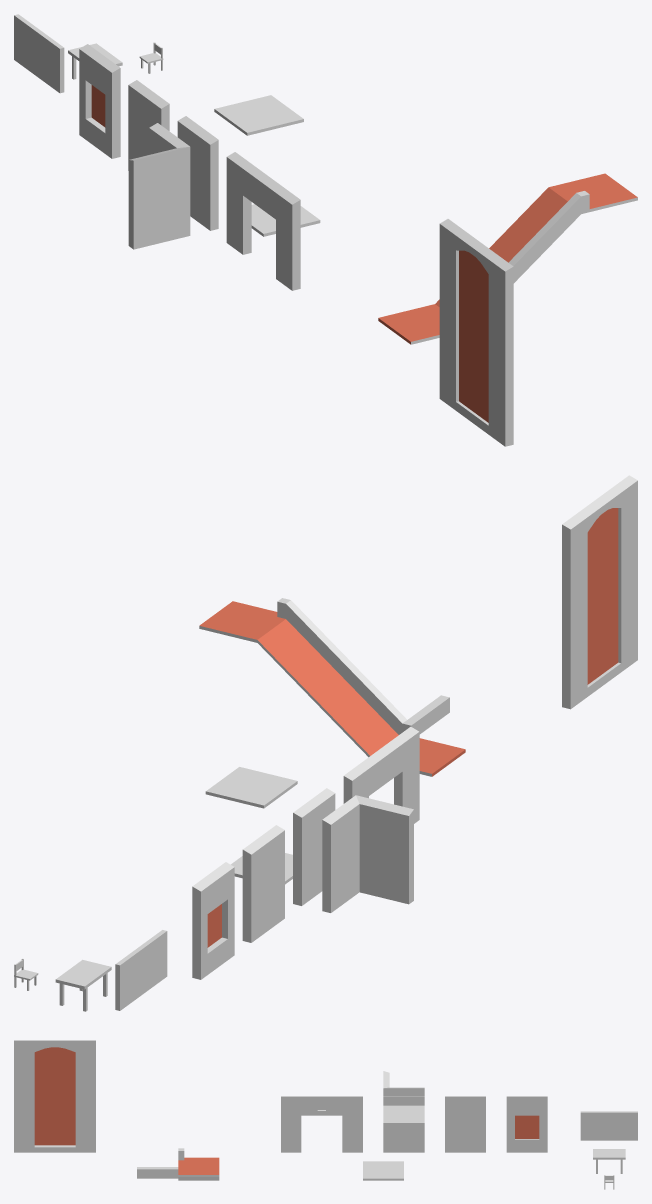
Rendered from Collection.fbx.
The picture shows the model from 3 angles, top to bottom: view 1: azimuth 30°, elevation 25°; view 2: azimuth 150°, elevation 25°; view 3: azimuth 270°, elevation 25°; orthographic projection. The views are drawn at different scales.
Visible parts, largest first — view 1: window big, stairs, wall_corner, door_big, windows, wall, blackboard, door, ceiling, floor; view 2: window big, stairs, wall_corner, door, windows, door_big, wall, blackboard, ceiling, table, stairs border; view 3: window big, door_big, windows, door, blackboard, wall, stairs, ceiling, floor, wall_corner, stairs border, table.
Part boxes in pixels (x1,y1,x2,y2): window big: (439,219,513,446); stairs: (378,173,637,344); wall_corner: (128,123,190,249); door_big: (226,152,300,290); windows: (79,44,120,158); wall: (177,116,218,230); blackboard: (14,14,64,93); door: (128,80,169,170); ceiling: (214,95,303,135); floor: (251,204,320,236); window big: (562,475,637,709); stairs: (199,598,465,776); wall_corner: (322,795,413,912); door: (242,825,284,942); windows: (192,862,234,979); door_big: (343,726,419,823); wall: (293,788,335,905); blackboard: (115,930,167,1010); ceiling: (205,767,297,808); table: (55,959,111,1011); stairs border: (408,695,449,734); window big: (14,1040,95,1152); door_big: (281,1096,362,1152); windows: (506,1096,547,1152); door: (445,1096,485,1152); blackboard: (580,1111,637,1140); wall: (383,1096,424,1152); stairs: (178,1148,219,1180); ceiling: (383,1105,424,1124); floor: (363,1161,403,1180); wall_corner: (383,1071,424,1096); stairs border: (137,1167,178,1178); table: (593,1149,625,1173).
Bounding box in the file's own units: 1200 × 610 × 3040.
